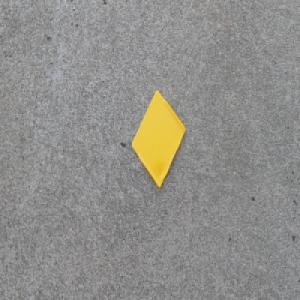PlasticPart: (130, 89, 185, 189)
